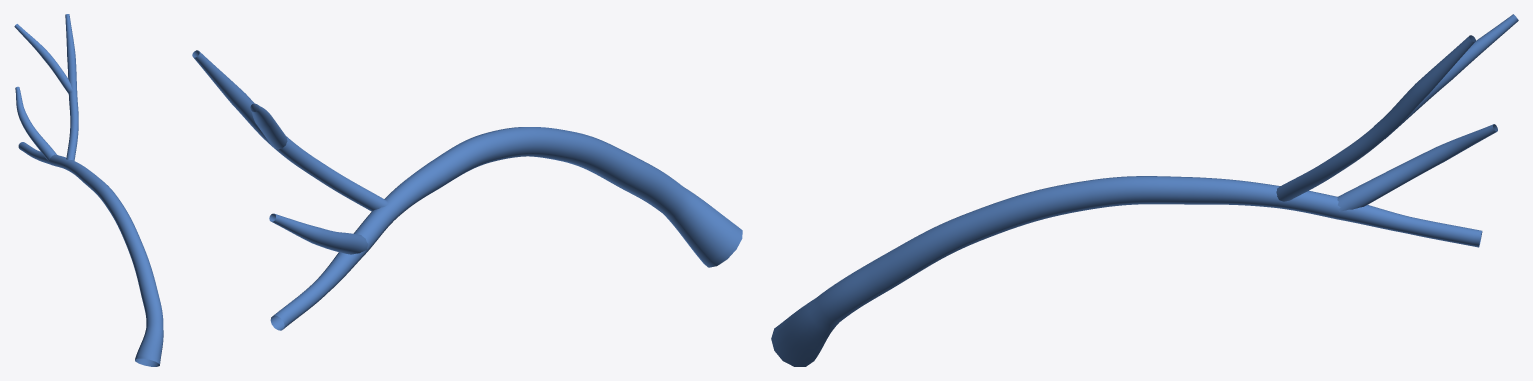
3 views of the same model, side by side, from view 1: azimuth 30°, elevation 25°; view 2: azimuth 150°, elevation 25°; view 3: azimuth 270°, elevation 25° (orthographic). The views are drawn at different scales.
Visible parts, largest first — view 1: 左肺底下静脉; view 2: 左肺底下静脉; view 3: 左肺底下静脉.
Boxes of the visible parts, x1=… form: 左肺底下静脉: x1=14, y1=14, x2=163, y2=366; 左肺底下静脉: x1=192, y1=50, x2=742, y2=330; 左肺底下静脉: x1=771, y1=14, x2=1518, y2=366.
Bounding box in the file's own units: 0.0402 × 0.0779 × 0.1278.
